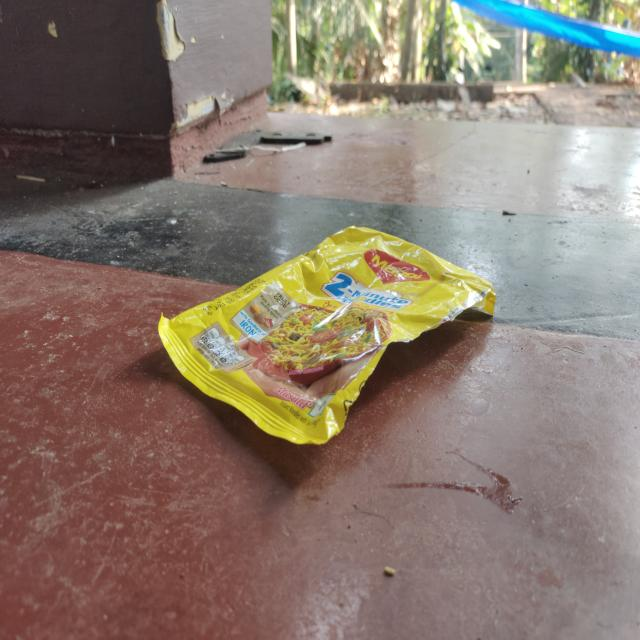plastic: (156, 222, 498, 456)
